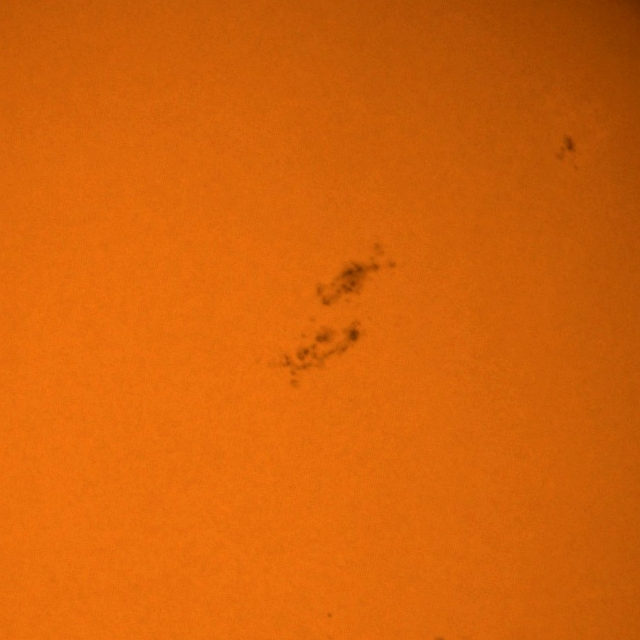sunspot: (265, 308, 375, 390), (312, 246, 409, 312), (554, 134, 577, 167), (325, 610, 334, 620)
